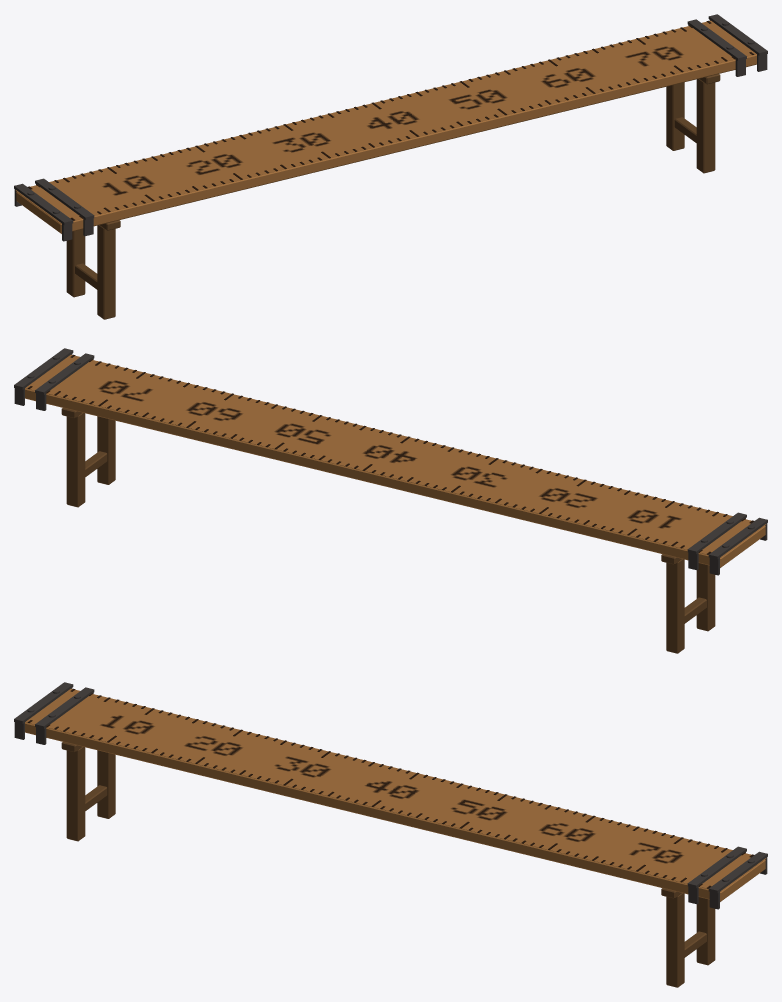
The model's file is ruler-bridge-full-v01.glb.
3 renders of one model, top to bottom at view 1: azimuth 30°, elevation 25°; view 2: azimuth 150°, elevation 25°; view 3: azimuth 330°, elevation 25°, orthographic.
Visible parts, largest first — view 1: SM_bridge_numerals, SM_bridge_ruler, SM_bridge_post_r, SM_bridge_post_l, SM_bridge_bracket_l, SM_bridge_bracket_r; view 2: SM_bridge_numerals, SM_bridge_ruler, SM_bridge_post_r, SM_bridge_post_l, SM_bridge_bracket_l, SM_bridge_bracket_r; view 3: SM_bridge_numerals, SM_bridge_ruler, SM_bridge_post_l, SM_bridge_post_r, SM_bridge_bracket_r, SM_bridge_bracket_l.
Boxes of the visible parts, x1,y1,x2,y2 form: SM_bridge_numerals: (15, 20, 756, 223); SM_bridge_ruler: (16, 20, 756, 233); SM_bridge_post_r: (666, 74, 720, 173); SM_bridge_post_l: (66, 220, 120, 319); SM_bridge_bracket_l: (14, 178, 94, 241); SM_bridge_bracket_r: (687, 14, 767, 76); SM_bridge_numerals: (25, 354, 766, 557); SM_bridge_ruler: (25, 354, 765, 567); SM_bridge_post_r: (61, 408, 115, 507); SM_bridge_post_l: (661, 554, 715, 653); SM_bridge_bracket_l: (687, 512, 767, 575); SM_bridge_bracket_r: (14, 348, 94, 410); SM_bridge_numerals: (25, 688, 766, 891); SM_bridge_ruler: (25, 688, 765, 901); SM_bridge_post_l: (61, 742, 115, 841); SM_bridge_post_r: (661, 888, 715, 987); SM_bridge_bracket_r: (687, 846, 767, 909); SM_bridge_bracket_l: (14, 682, 94, 744).
Size of the model in its own units: 8 by 1.25 by 0.99.
5 materials, 1 textured.
